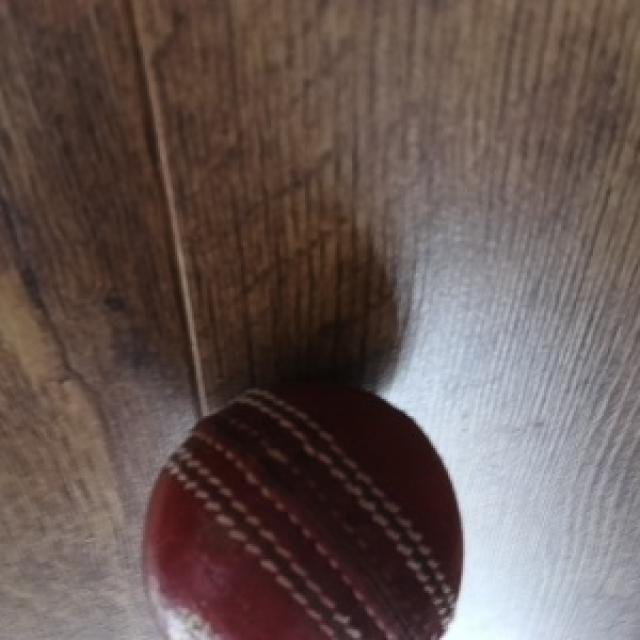ball: (141, 384, 465, 640)
